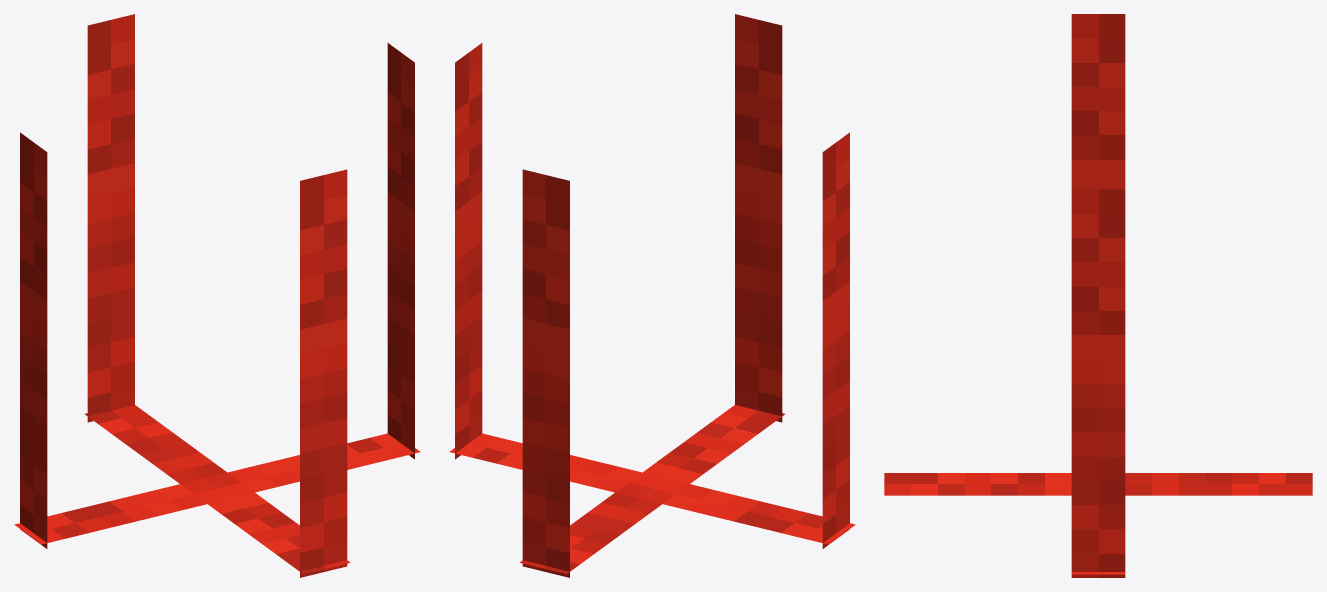
The model's file is dust_on_2222.gltf.
3 views of the same model, side by side, from view 1: azimuth 30°, elevation 25°; view 2: azimuth 150°, elevation 25°; view 3: azimuth 270°, elevation 25° (orthographic). The views are drawn at different scales.
Visible parts, largest first — view 1: dust_on_2222; view 2: dust_on_2222; view 3: dust_on_2222.
Boxes of the visible parts, left/top/right/bottom form: dust_on_2222: left=14, top=14, right=420, bottom=577; dust_on_2222: left=449, top=14, right=855, bottom=577; dust_on_2222: left=884, top=14, right=1312, bottom=577.
Bounding box in the file's own units: 1 × 1 × 1.
Materials: 1 (1 with a texture image).
